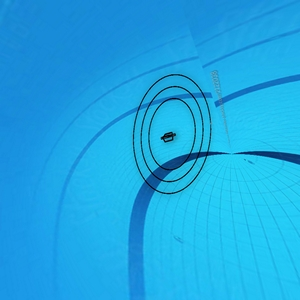circle: (130, 70, 213, 196)
submarine: (158, 130, 176, 144)
